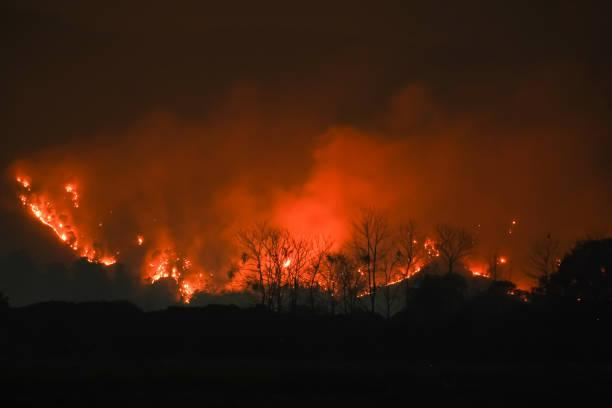Fire: (25, 178, 79, 231), (154, 269, 178, 281), (186, 284, 196, 305)
